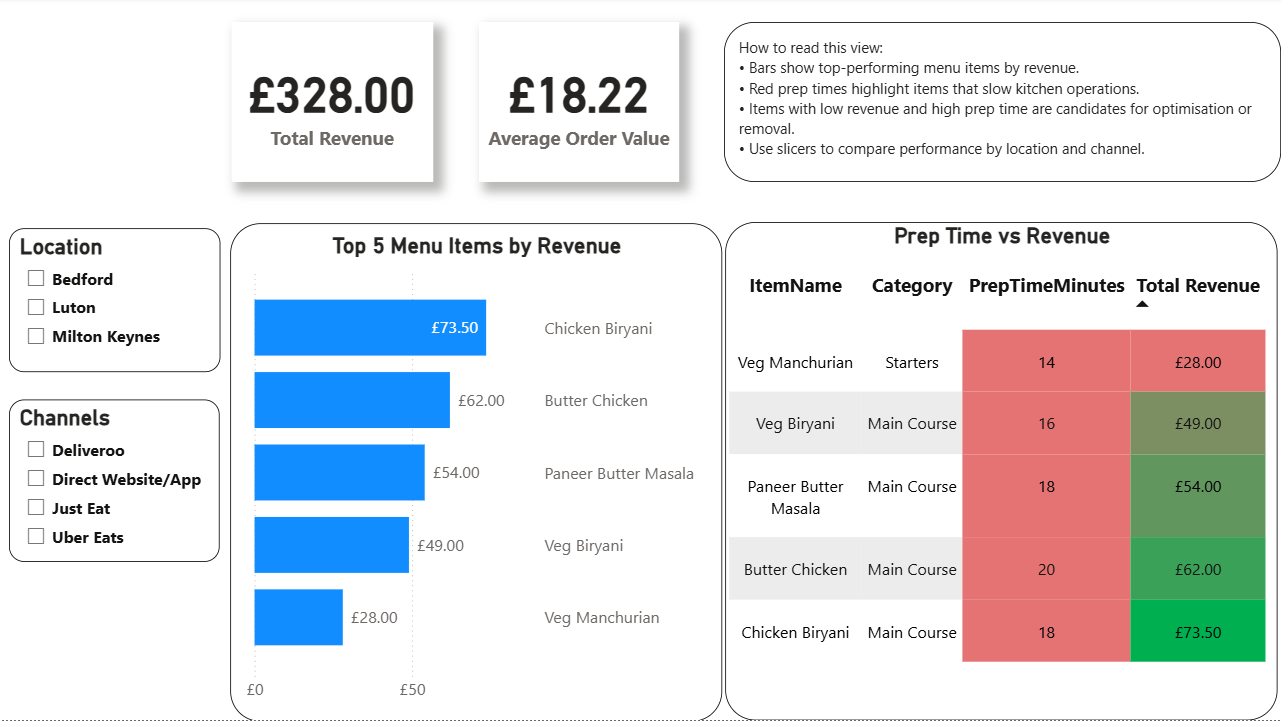

This screenshot's page, from the dashboard's own definition file:
{"tool":"powerbi","page":{"name":"Menu Performance","canvas":[1280,720],"ordinal":2},"visuals":[{"type":"card","fields":{"Values":["Order_Items.Total Revenue"]},"box":[231.6,29.3,200.7,159],"z":0},{"type":"card","fields":{"Values":["Order_Items.Average Order Value"]},"box":[477.1,29.3,199.2,159],"z":1000},{"type":"slicer","title":"Location","fields":{"Values":["Locations.LocationName"]},"box":[9.2,229.1,210.7,143.5],"z":2000},{"type":"slicer","title":"Channels","fields":{"Values":["Channels.ChannelName"]},"box":[10.5,384.5,209.4,162],"z":3000},{"type":"clusteredBarChart","title":"Top 5 Menu Items by Revenue","fields":{"Category":["Menu_Items.ItemName"],"Y":["Order_Items.Total Revenue"]},"box":[231.6,205.4,489.5,495.6],"z":4000},{"type":"tableEx","title":"Prep Time vs Revenue","fields":{"Values":["Menu_Items.ItemName","Menu_Items.Category","Menu_Items.PrepTimeMinutes","Order_Items.Total Revenue"]},"box":[725.7,205.4,549.7,495.6],"z":5000},{"type":"textbox","box":[721.1,29.3,554.3,159],"z":6000}]}

Visuals, with their boxes in screenshot pixels (x1, y1, x2, y2), scaled from the page's 1280x720 canvas onto the 1281x722 screenshot:
card - Order_Items.Total Revenue: box(232, 29, 433, 189)
card - Order_Items.Average Order Value: box(477, 29, 677, 189)
"Location" slicer: box(9, 230, 220, 374)
"Channels" slicer: box(11, 386, 220, 548)
"Top 5 Menu Items by Revenue" clusteredBarChart: box(232, 206, 722, 703)
"Prep Time vs Revenue" tableEx: box(726, 206, 1276, 703)
textbox: box(722, 29, 1276, 189)
